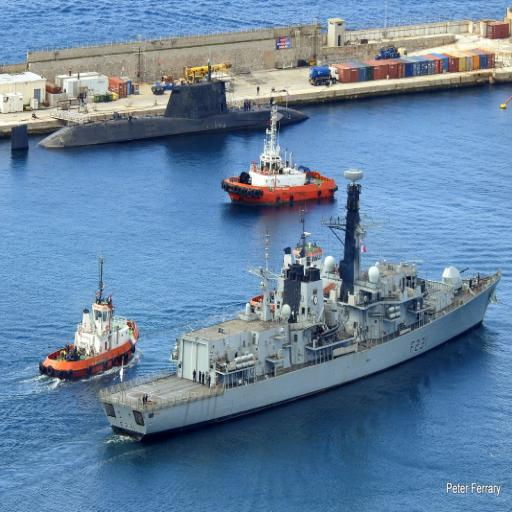Fragata: (95, 163, 507, 452)
